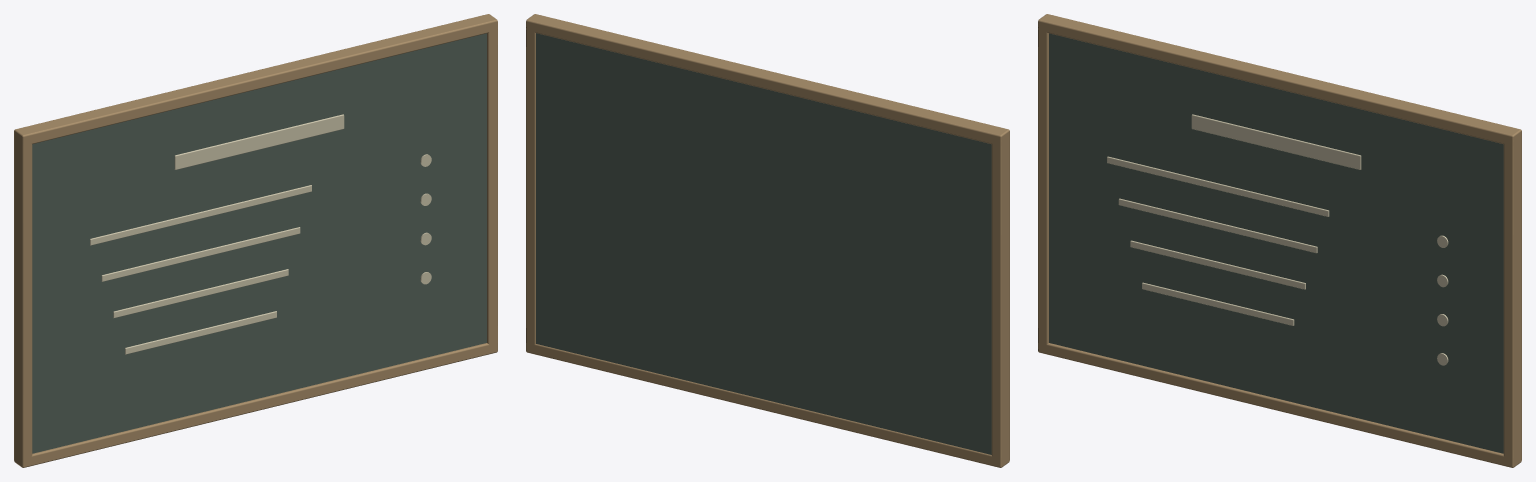
The model's file is menuboard.glb.
The picture shows the model from 3 angles, left to right: view 1: azimuth 30°, elevation 25°; view 2: azimuth 150°, elevation 25°; view 3: azimuth 330°, elevation 25°; orthographic projection.
Parts seen in each view (by area): view 1: menu-board-inset, menu-board-rail-1, menu-board-stile--1, menu-board-rail--1, menu-board-stile-1, menu-heading, menu-line-0, menu-line-1, menu-line-2, menu-line-3; view 2: menu-board-inset, menu-board-rail-1, menu-board-stile--1, menu-board-rail--1, menu-board-stile-1; view 3: menu-board-inset, menu-board-rail-1, menu-board-stile-1, menu-board-rail--1, menu-board-stile--1, menu-heading, menu-line-0, menu-line-1, menu-line-2, menu-line-3.
Part boxes in pixels (<box>): menu-board-inset: <box>32,33,486,453</box>; menu-board-rail-1: <box>14,14,497,145</box>; menu-board-stile--1: <box>14,130,32,467</box>; menu-board-rail--1: <box>14,343,497,467</box>; menu-board-stile-1: <box>487,18,497,353</box>; menu-heading: <box>174,114,344,169</box>; menu-line-0: <box>90,185,311,245</box>; menu-line-1: <box>101,227,300,281</box>; menu-line-2: <box>113,269,288,318</box>; menu-line-3: <box>125,311,276,354</box>; menu-board-inset: <box>536,33,991,454</box>; menu-board-rail-1: <box>526,14,1009,144</box>; menu-board-stile--1: <box>991,129,1009,466</box>; menu-board-rail--1: <box>526,343,1009,467</box>; menu-board-stile-1: <box>526,20,535,353</box>; menu-board-inset: <box>1049,33,1503,453</box>; menu-board-rail-1: <box>1038,14,1521,144</box>; menu-board-stile-1: <box>1503,129,1521,466</box>; menu-board-rail--1: <box>1038,343,1521,467</box>; menu-board-stile--1: <box>1038,20,1048,353</box>; menu-heading: <box>1191,114,1361,169</box>; menu-line-0: <box>1107,156,1329,216</box>; menu-line-1: <box>1118,198,1317,253</box>; menu-line-2: <box>1130,240,1305,289</box>; menu-line-3: <box>1142,282,1294,325</box>.
Size of the model in its own units: 1.63 by 1.09 by 0.055.
